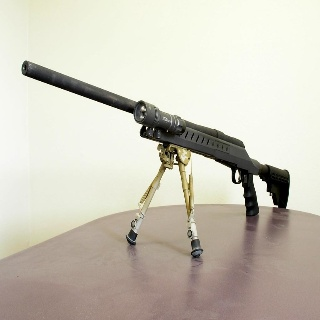rifle: (20, 58, 290, 218)
